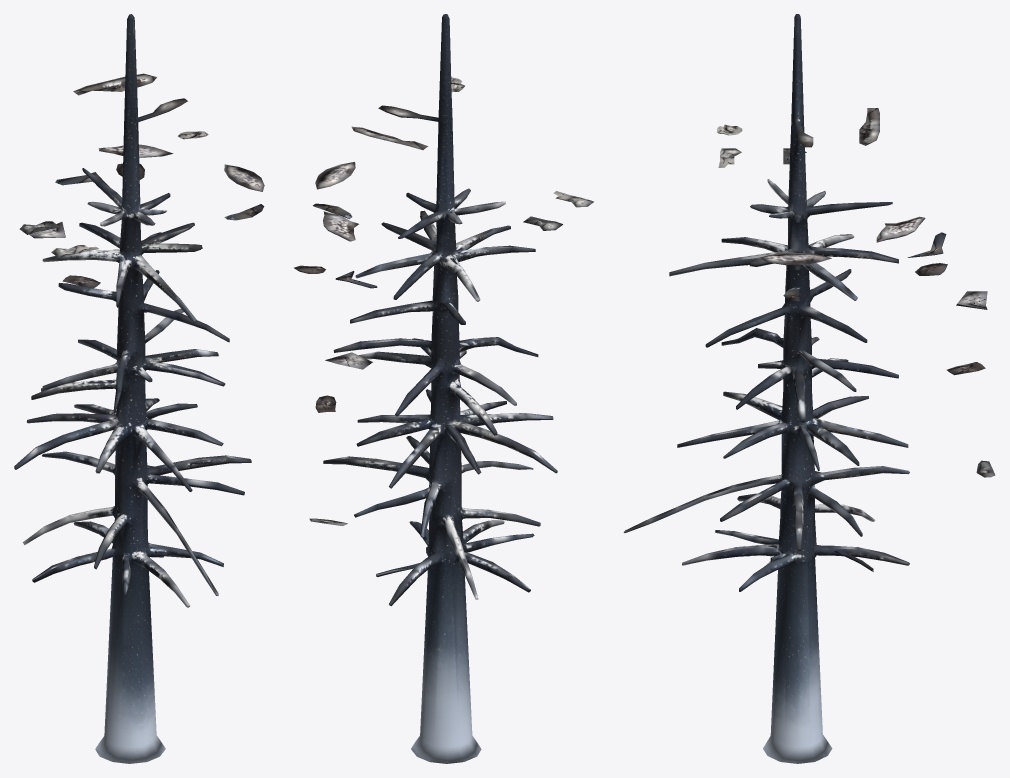
Rendered from tree.fbx.
3 views of the same model, side by side, from view 1: azimuth 30°, elevation 25°; view 2: azimuth 150°, elevation 25°; view 3: azimuth 270°, elevation 25° (orthographic).
Parts seen in each view (by area): view 1: mesh_rep_0_ori_repair; view 2: mesh_rep_0_ori_repair; view 3: mesh_rep_0_ori_repair.
Part boxes in pixels (x1=…): mesh_rep_0_ori_repair: x1=14, y1=14, x2=264, y2=763; mesh_rep_0_ori_repair: x1=294, y1=14, x2=593, y2=763; mesh_rep_0_ori_repair: x1=623, y1=14, x2=995, y2=763.
Size of the model in its own units: 41.47 by 119 by 54.44.
Materials: 1 (1 with a texture image).
